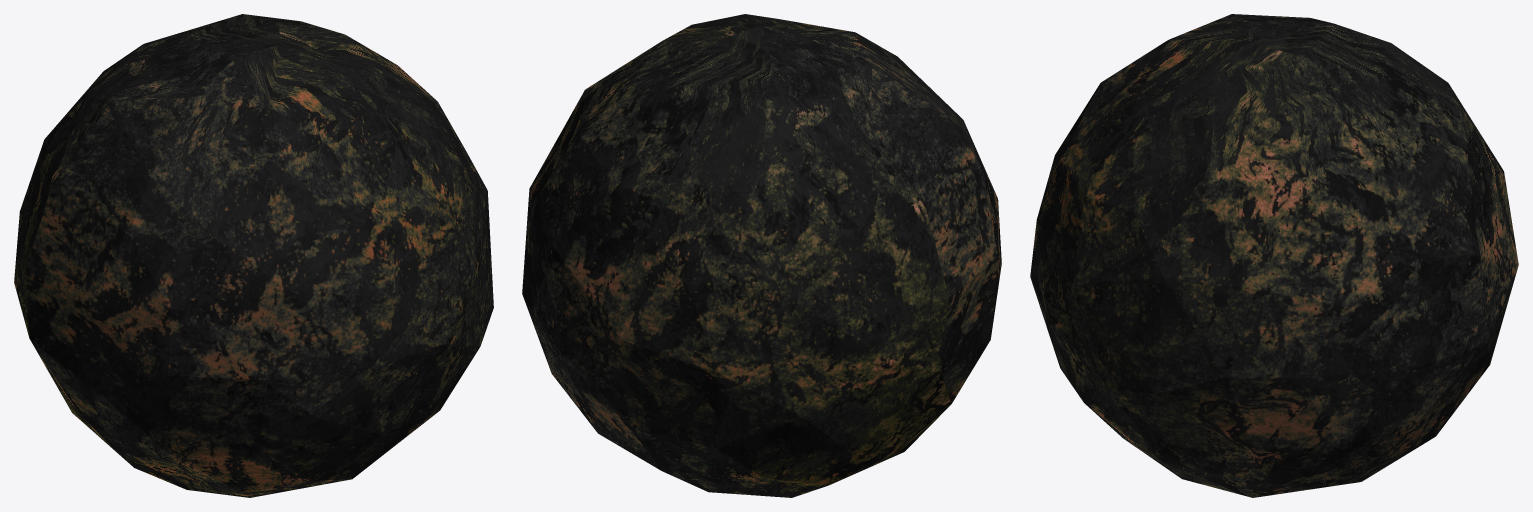
Rendered from planet.obj.
The picture shows the model from 3 angles, left to right: view 1: azimuth 30°, elevation 25°; view 2: azimuth 150°, elevation 25°; view 3: azimuth 270°, elevation 25°; orthographic projection.
Parts seen in each view (by area): view 1: Sphere; view 2: Sphere; view 3: Sphere.
Part boxes in pixels (bbox=[...]): Sphere: bbox=[14, 14, 493, 497]; Sphere: bbox=[522, 14, 1001, 497]; Sphere: bbox=[1030, 14, 1518, 497].
Bounding box in the file's own units: 1.99 × 2 × 2.02.
